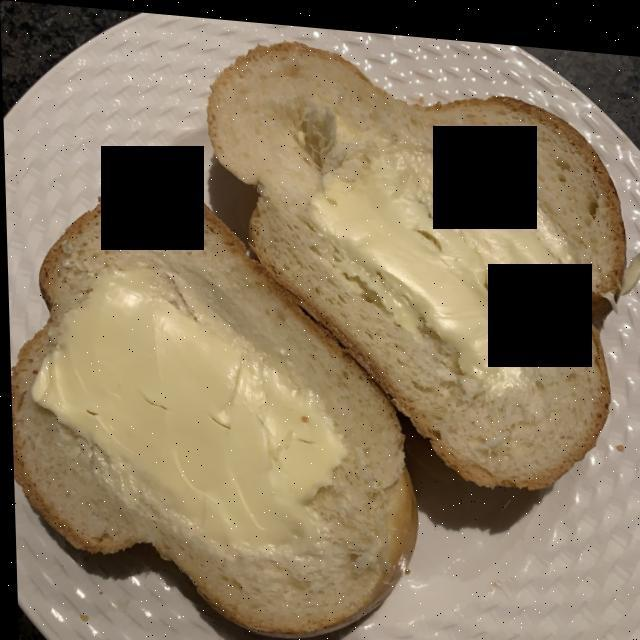bread: (13, 46, 620, 629)
butter: (39, 134, 578, 569)
